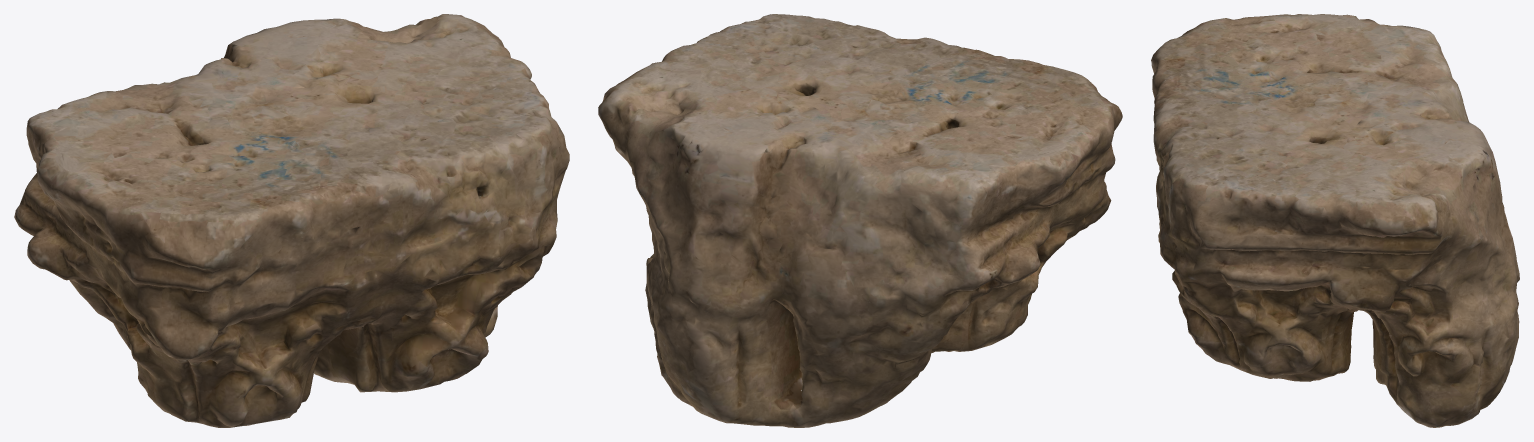
3 renders of one model, left to right at view 1: azimuth 30°, elevation 25°; view 2: azimuth 150°, elevation 25°; view 3: azimuth 270°, elevation 25°, orthographic. The views are drawn at different scales.
Visible parts, largest first — view 1: HS26_25K; view 2: HS26_25K; view 3: HS26_25K.
Part boxes in pixels (box(x1,y1,x2,y2)): HS26_25K: box(14, 14, 569, 427); HS26_25K: box(598, 14, 1122, 427); HS26_25K: box(1151, 14, 1519, 427).
Bounding box in the file's own units: 0.3879 × 0.2473 × 0.2994.
1 material, 1 textured.
